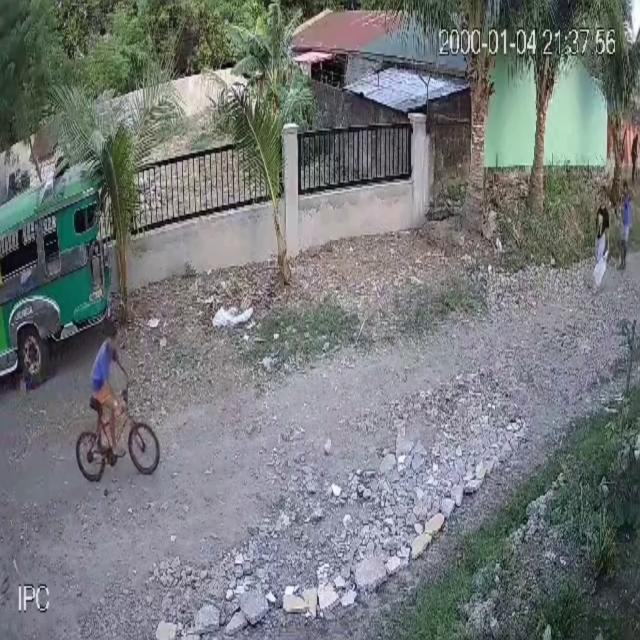walking: (591, 184, 614, 290), (616, 178, 638, 274)
